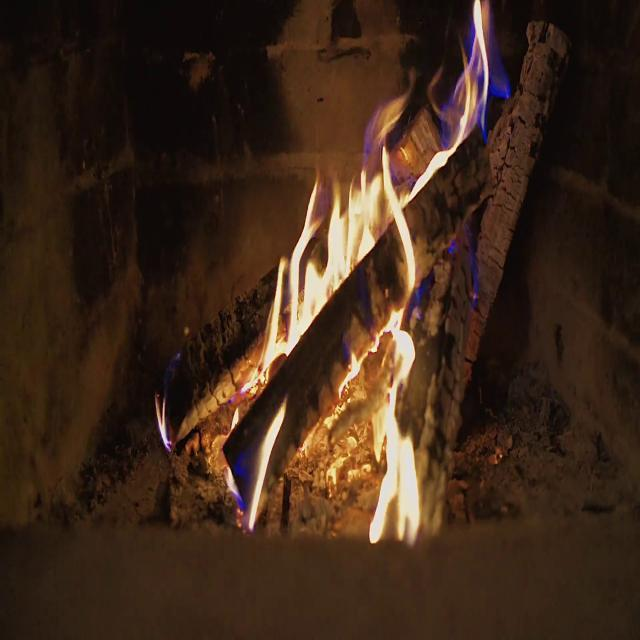Fire: (235, 118, 436, 540), (433, 0, 503, 153)
